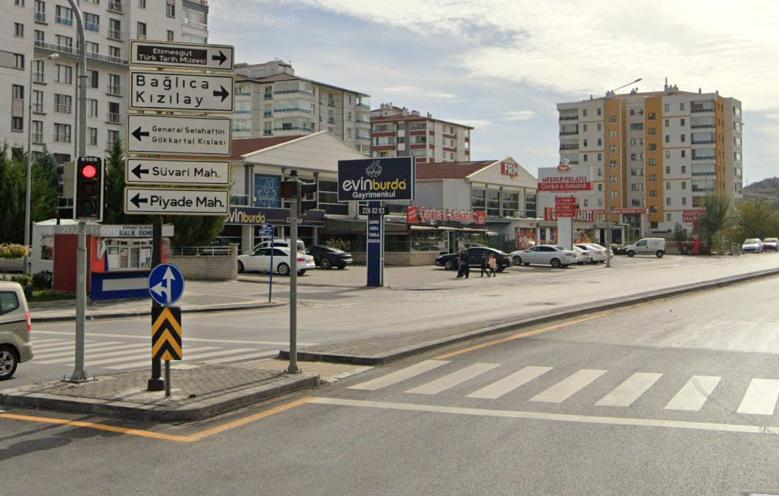redlight: (77, 158, 103, 218)
